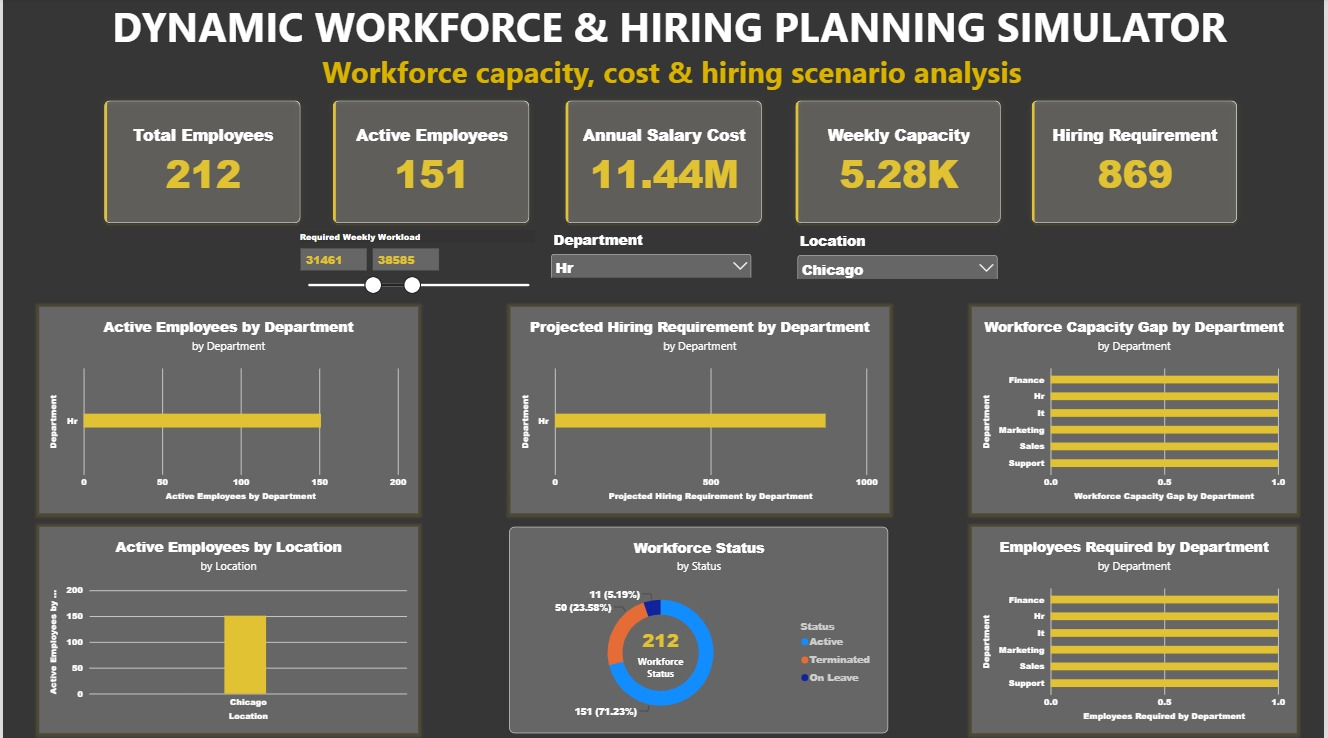

The page's visual inventory and layout, read from the dashboard file:
{"tool":"powerbi","page":{"name":"Page 1","canvas":[1920,1080],"ordinal":0},"visuals":[{"type":"cardVisual","fields":{"Data":["CountNonNull(workforce_db employees.Emp_ID)"]},"box":[136,138,307.5,200],"z":0},{"type":"cardVisual","fields":{"Data":["Count(workforce_db employees.Emp_ID)"]},"box":[468,138,307,200],"z":1000},{"type":"cardVisual","fields":{"Data":["Sum(workforce_db employees.Base_Salary_USD)"]},"box":[806,138,307,200],"z":2000},{"type":"cardVisual","fields":{"Data":["Sum(workforce_db employees.Weekly_Capacity_Hrs)"]},"box":[1140,138.3,320,200],"z":3000},{"type":"clusteredBarChart","fields":{"Category":["workforce_db employees.Department"],"Y":["CountNonNull(workforce_db employees.Emp_ID)"]},"box":[52,448,550,300],"z":4000},{"type":"clusteredColumnChart","fields":{"Category":["workforce_db employees.Location"],"Y":["CountNonNull(workforce_db employees.Emp_ID)"]},"box":[52,768,550,300],"z":5000},{"type":"donutChart","fields":{"Category":["workforce_db employees.Status"],"Y":["CountNonNull(workforce_db employees.Emp_ID)"]},"box":[736,768,550,300],"z":6000},{"type":"clusteredBarChart","fields":{"Y":["CountNonNull(workforce_db department_workforce_summary.hiring_gap_hours)"],"Category":["workforce_db department_workforce_summary.Department"]},"box":[1408,448,472,300],"z":7000},{"type":"clusteredBarChart","fields":{"Category":["workforce_db department_workforce_summary.Department"],"Y":["CountNonNull(workforce_db department_workforce_summary.employees_to_hire)"]},"box":[1408,768,472,300],"z":8000},{"type":"slicer","fields":{"Values":["Required Weekly Workload.Required Weekly Workload"]},"box":[423.1,337.7,357.5,95],"z":9000},{"type":"cardVisual","fields":{"Data":["workforce_db employees.Hiring Requirement"]},"box":[1483.3,138.3,320,200],"z":10000},{"type":"clusteredBarChart","fields":{"Category":["workforce_db employees.Department"],"Y":["workforce_db employees.Hiring Requirement"]},"box":[738,448,550,300],"z":12000},{"type":"slicer","fields":{"Values":["workforce_db employees.Department"]},"box":[791.7,335.9,300,70],"z":13000},{"type":"slicer","fields":{"Values":["workforce_db employees.Location"]},"box":[1149.4,337.7,300,70],"z":14000},{"type":"textbox","box":[0,0,1920,138],"z":15000}]}

Visuals, with their boxes in screenshot pixels (x1, y1, x2, y2), scaled from the page's 1920x1080 canvas onto the 1328x738 screenshot:
cardVisual - CountNonNull(workforce_db employees.Emp_ID): 94 94 307 231
cardVisual - Count(workforce_db employees.Emp_ID): 324 94 536 231
cardVisual - Sum(workforce_db employees.Base_Salary_USD): 557 94 770 231
cardVisual - Sum(workforce_db employees.Weekly_Capacity_Hrs): 788 95 1010 231
clusteredBarChart - workforce_db employees.Department x CountNonNull(workforce_db employees.Emp_ID): 36 306 416 511
clusteredColumnChart - workforce_db employees.Location x CountNonNull(workforce_db employees.Emp_ID): 36 525 416 730
donutChart - workforce_db employees.Status x CountNonNull(workforce_db employees.Emp_ID): 509 525 889 730
clusteredBarChart - CountNonNull(workforce_db department_workforce_summary.hiring_gap_hours) x workforce_db department_workforce_summary.Department: 974 306 1300 511
clusteredBarChart - workforce_db department_workforce_summary.Department x CountNonNull(workforce_db department_workforce_summary.employees_to_hire): 974 525 1300 730
slicer - Required Weekly Workload.Required Weekly Workload: 293 231 540 296
cardVisual - workforce_db employees.Hiring Requirement: 1026 95 1247 231
clusteredBarChart - workforce_db employees.Department x workforce_db employees.Hiring Requirement: 510 306 891 511
slicer - workforce_db employees.Department: 548 230 755 277
slicer - workforce_db employees.Location: 795 231 1003 279
textbox: 0 0 1327 94
